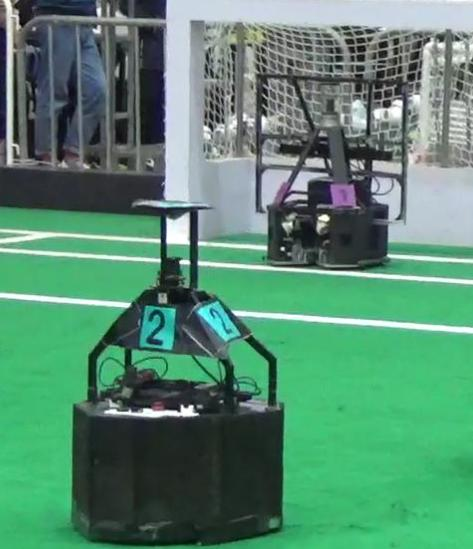robot: (51, 183, 287, 549), (255, 85, 395, 273)
